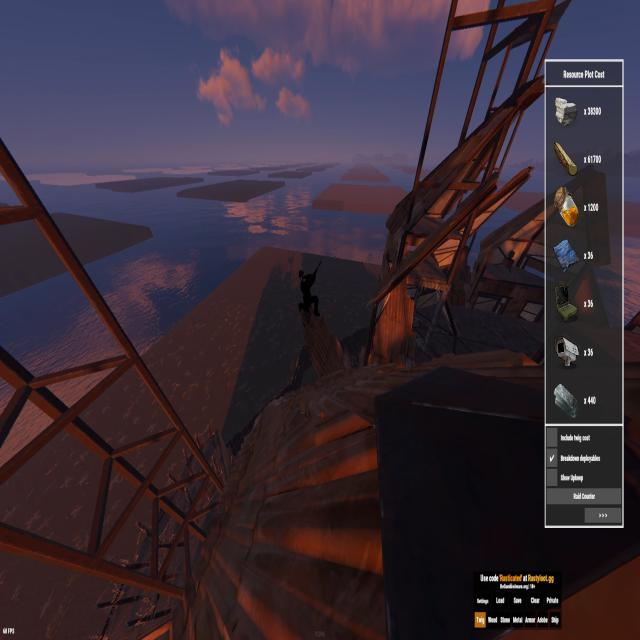Player: (298, 269, 320, 316)
